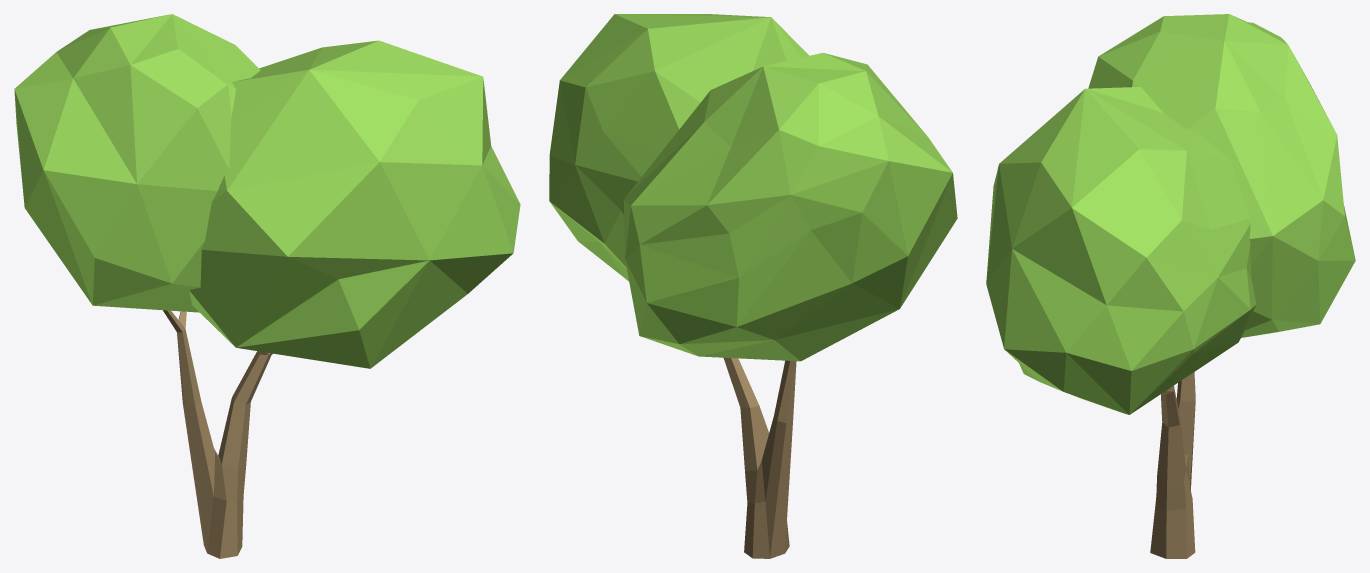
File: Apple_Tree_m_07_LOD.fbx
The picture shows the model from 3 angles, left to right: view 1: azimuth 30°, elevation 25°; view 2: azimuth 150°, elevation 25°; view 3: azimuth 270°, elevation 25°; orthographic projection. The views are drawn at different scales.
Visible parts, largest first — view 1: Apple_Tree_m_07_LOD0; view 2: Apple_Tree_m_07_LOD0; view 3: Apple_Tree_m_07_LOD0.
Part boxes in pixels (x1,y1,x2,y2): Apple_Tree_m_07_LOD0: (14, 14, 520, 558); Apple_Tree_m_07_LOD0: (549, 14, 957, 558); Apple_Tree_m_07_LOD0: (986, 14, 1355, 558).
Size of what is drawn, in the model's own units: 564 by 657 by 441.
